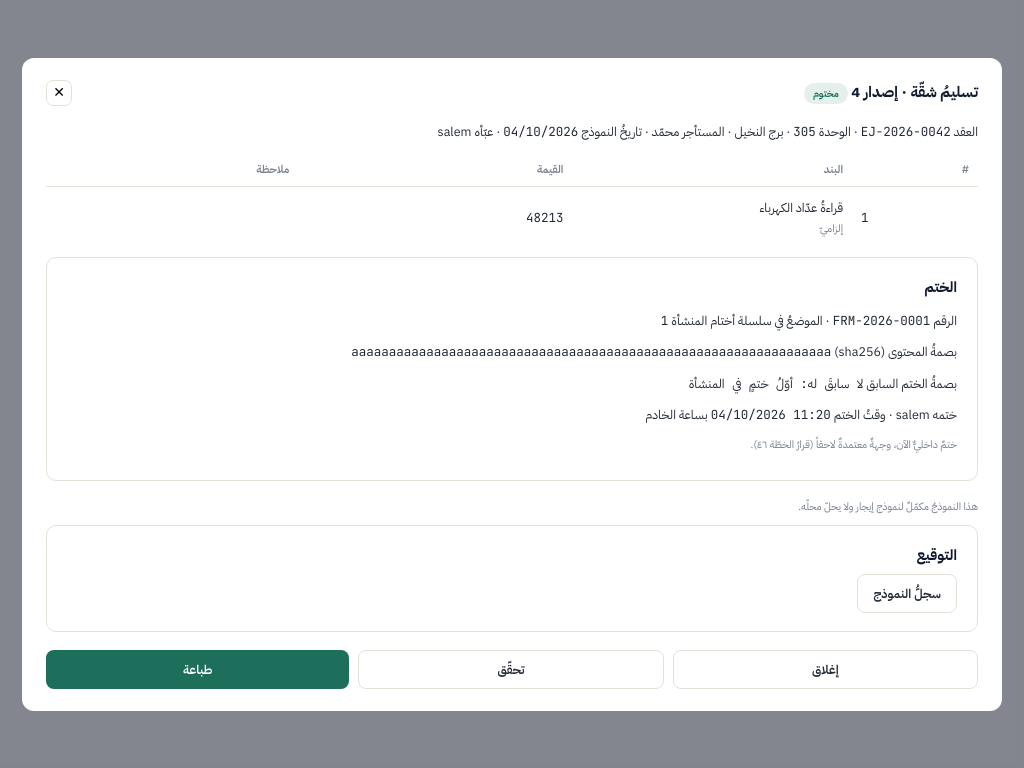
it: ⚖️ السجلُّ المعبّأ في شاشة «النماذج» (ق-١٦٣٨) › والتحقّقُ يقول إن المحتوى تغيّر حين لا تطابق البصمةُ المعادة
Click the button "تحقّق" at (511, 669), box [358,650,664,688]
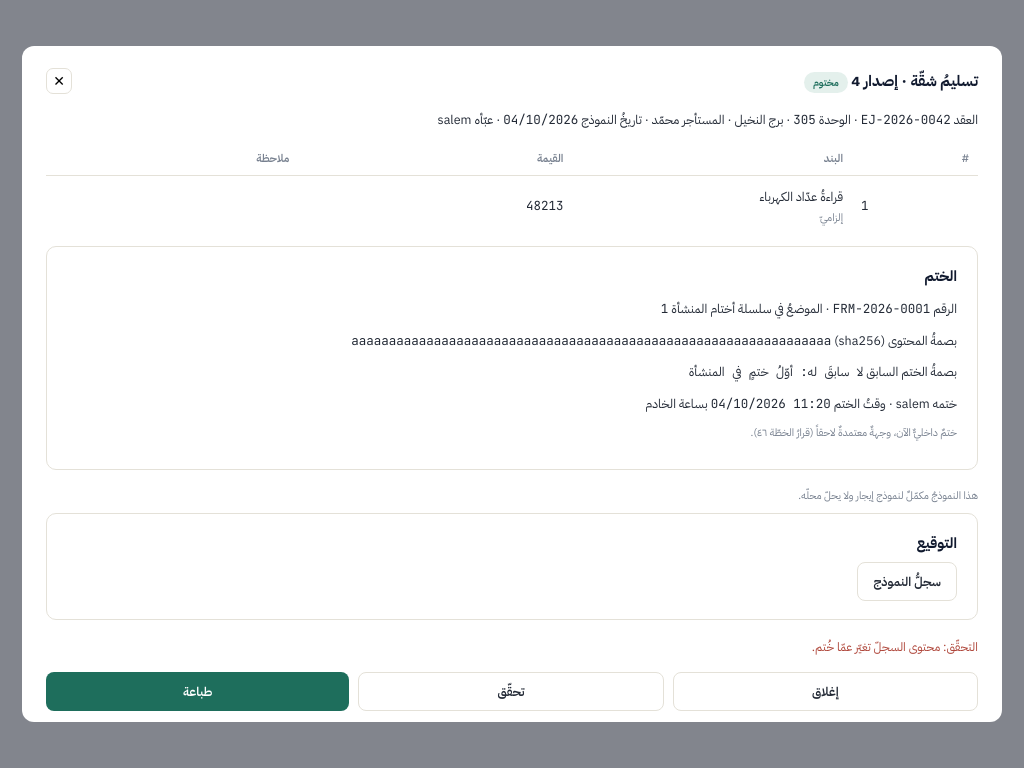
Expected: the text with test id "form-verification" shows "محتوى السجلّ تغيّر", [812,638,978,656]
